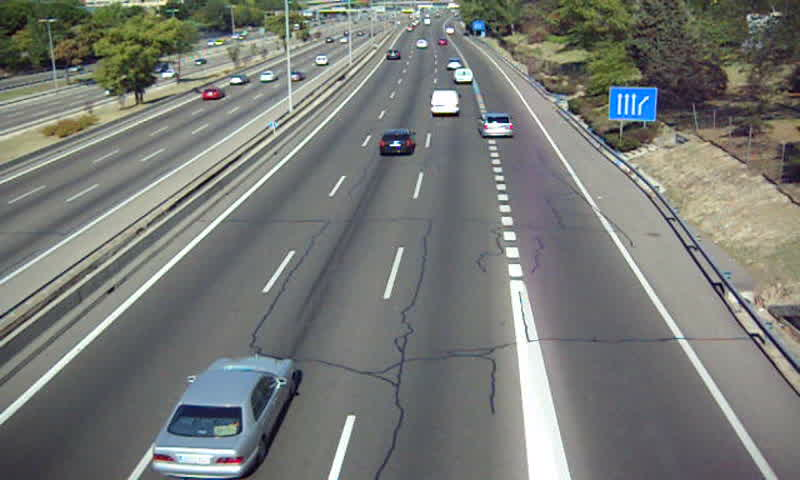car: (150, 353, 296, 478), (379, 126, 416, 155), (480, 111, 515, 138)
van: (430, 90, 460, 118), (454, 68, 474, 86)
